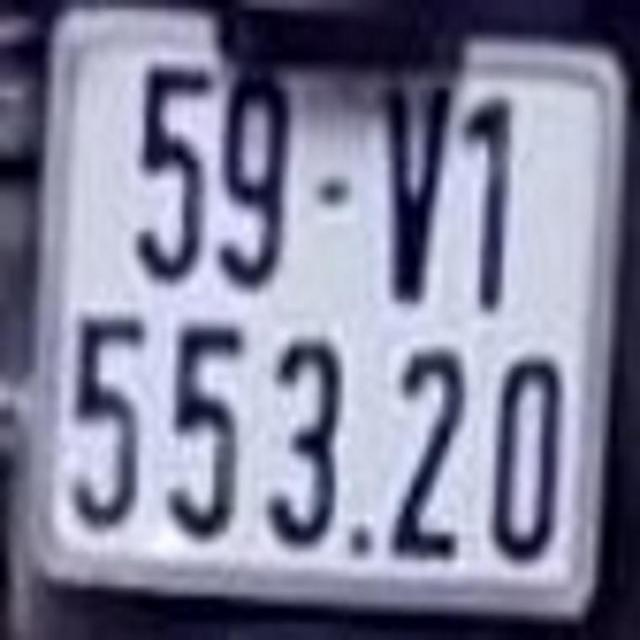1: (492, 356, 560, 559), (466, 99, 513, 312)
2: (394, 335, 468, 560)
3: (266, 338, 351, 551)
5: (135, 60, 209, 287), (165, 326, 243, 540), (72, 312, 142, 531)
9: (216, 75, 292, 288)
V: (384, 87, 451, 300)
